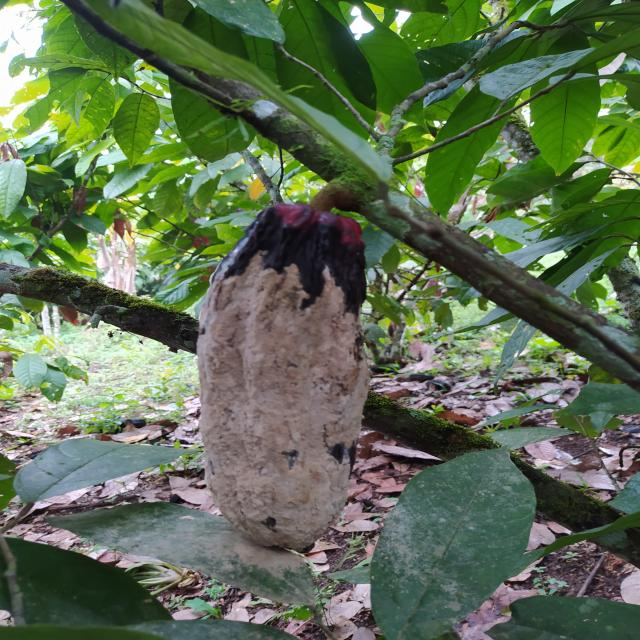Monilia: (195, 205, 369, 554)
